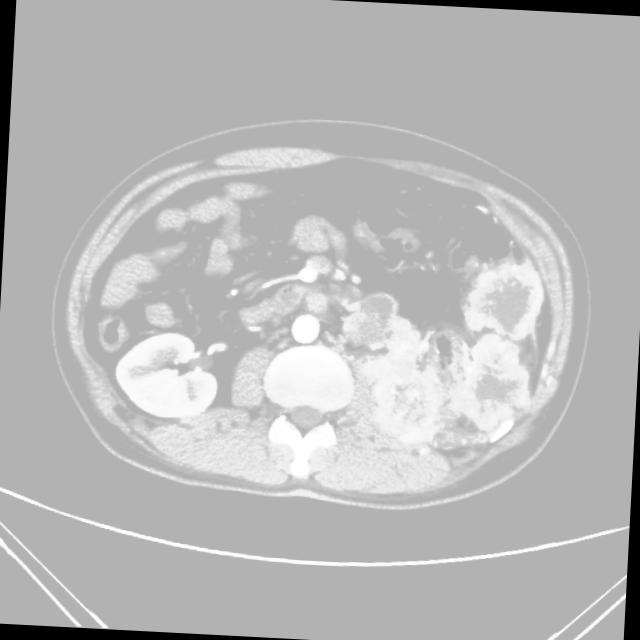TUMOR: (144, 182, 561, 475)
